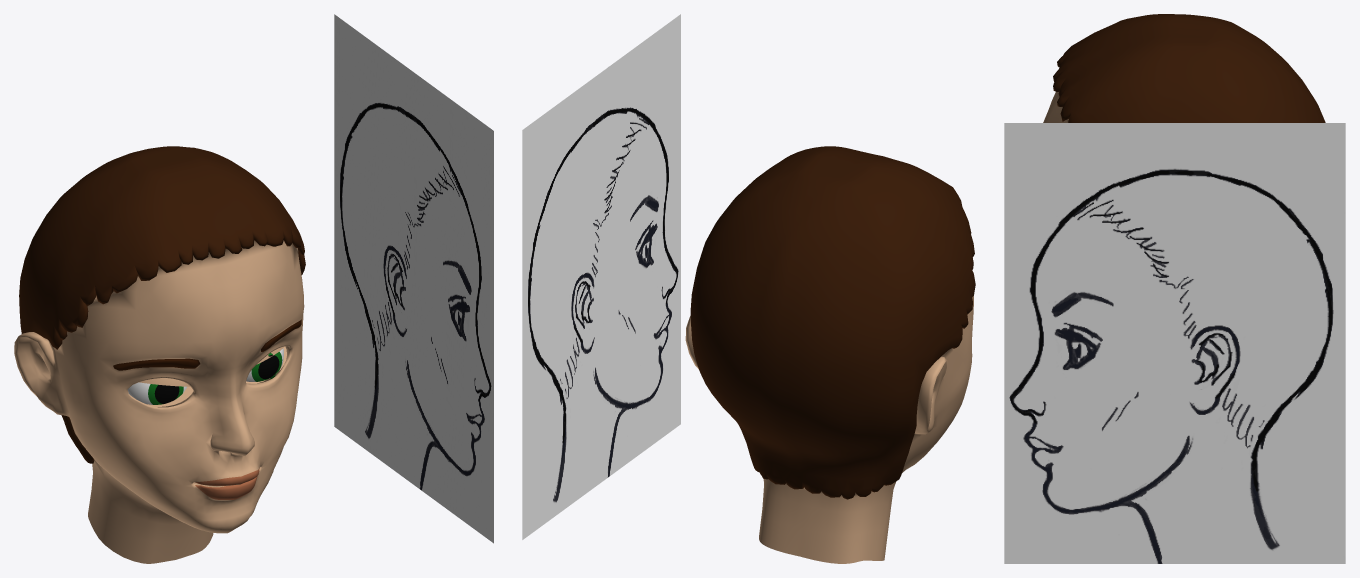
File: FemaleHeadFBX.FBX
The picture shows the model from 3 angles, left to right: view 1: azimuth 30°, elevation 25°; view 2: azimuth 150°, elevation 25°; view 3: azimuth 270°, elevation 25°; orthographic projection. The views are drawn at different scales.
Parts seen in each view (by area): view 1: Plane003, Plane002, Sphere001, Sphere002, Sphere003; view 2: Plane003, Plane002; view 3: Plane002, Plane003.
Part boxes in pixels (x1,y1,x2,y2): Plane003: (14,146,305,563); Plane002: (334,14,493,543); Sphere001: (127,382,186,404); Sphere002: (246,348,283,381); Sphere003: (139,378,193,407); Plane003: (685,146,975,563); Plane002: (522,14,680,539); Plane002: (1004,123,1345,563); Plane003: (1043,14,1325,122).
Bounding box in the file's own units: 354 × 393 × 267.
Materials: 8 (1 with a texture image).
